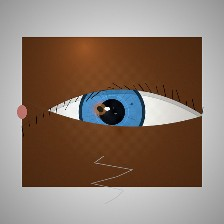foreign_body_visible: (82, 95, 118, 124)
